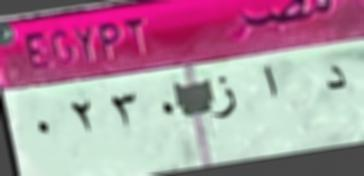0: (36, 117, 51, 140), (159, 100, 176, 119)
2: (67, 99, 96, 137)
3: (105, 90, 141, 136)
alif: (259, 62, 284, 104)
daal: (318, 62, 353, 100)
zay: (210, 73, 241, 128)
